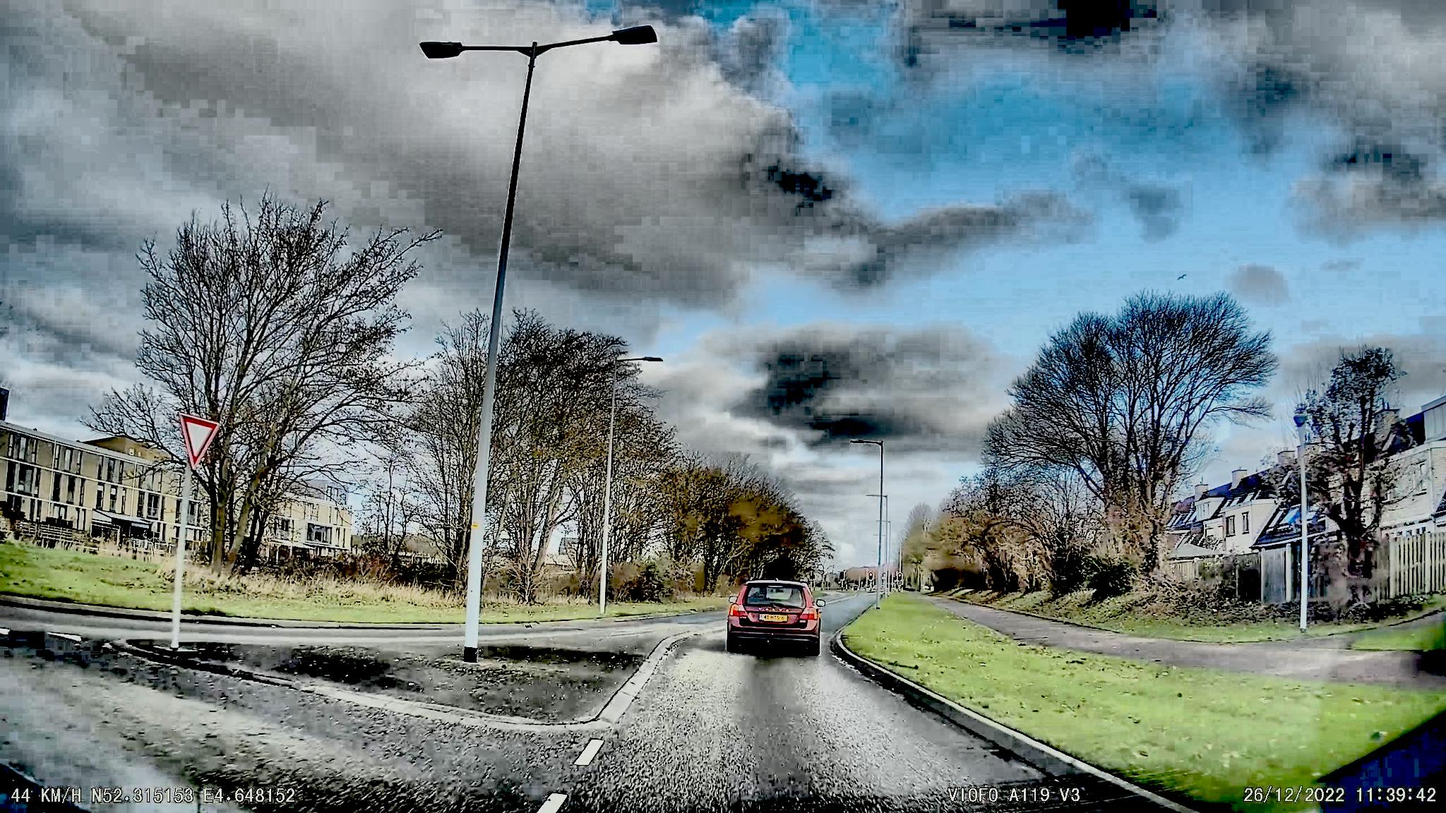Roads: (0, 626, 1196, 813)
